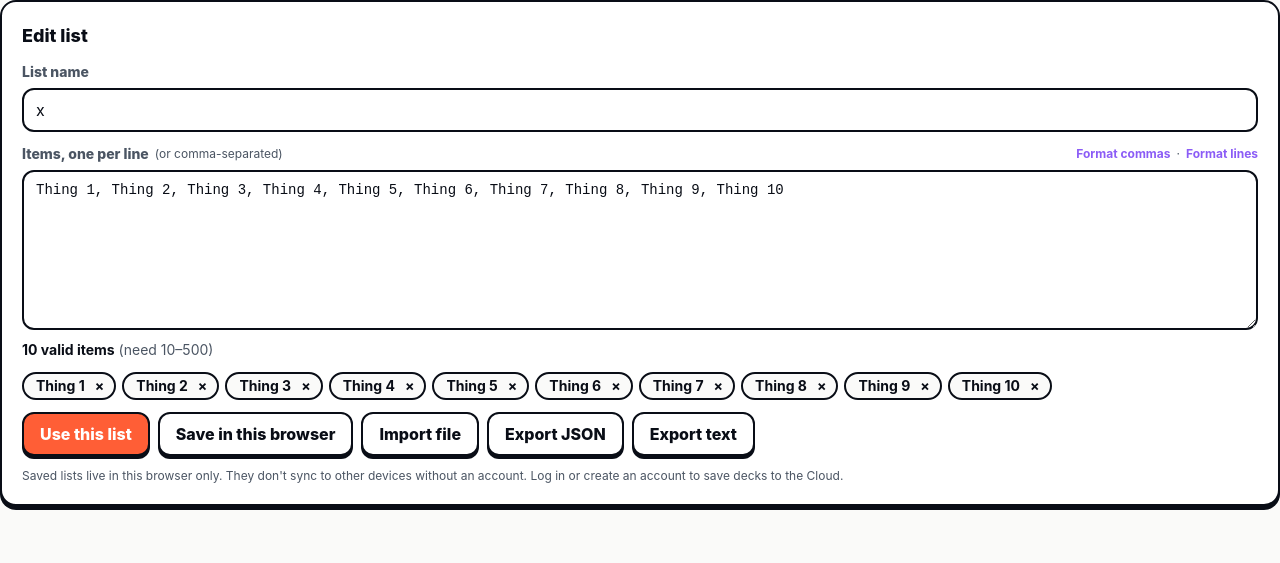
Test: ListEditor › requires at least one item per player
Expected: the button "Use this list" is enabled, [22, 412, 150, 456]
Click the button named "Remove Thing 1". click: (100, 386)
box: [89, 379, 110, 393]
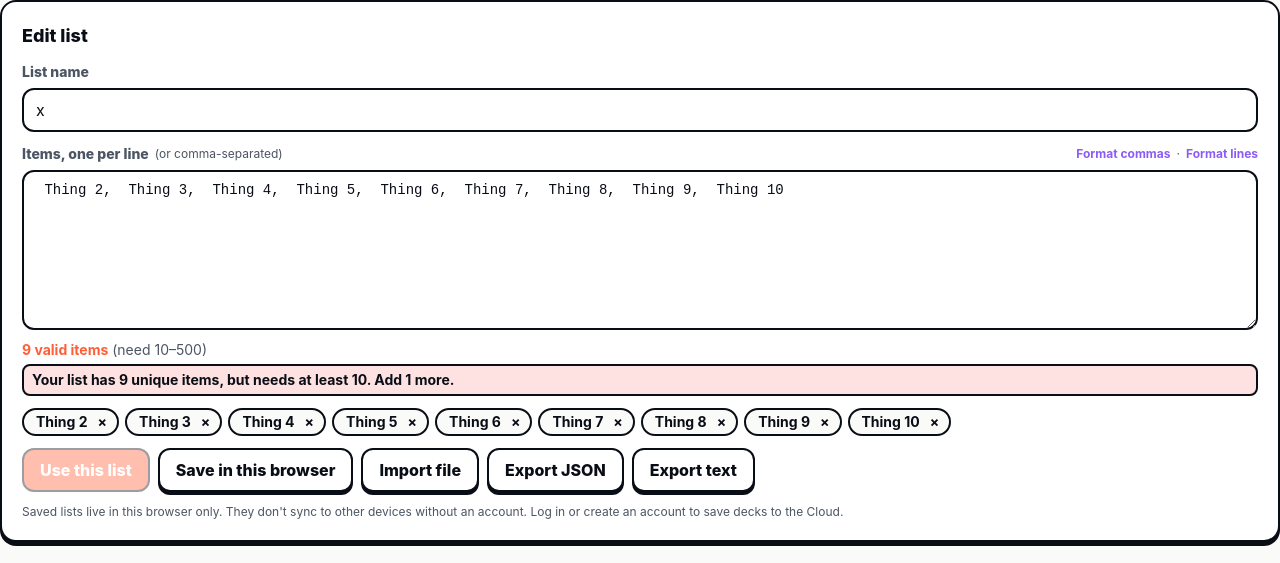
Now the message with test id "list-count" shows "9 valid items", box [22, 341, 207, 358]
Now the button "Use this list" is disabled, box [22, 448, 150, 492]
